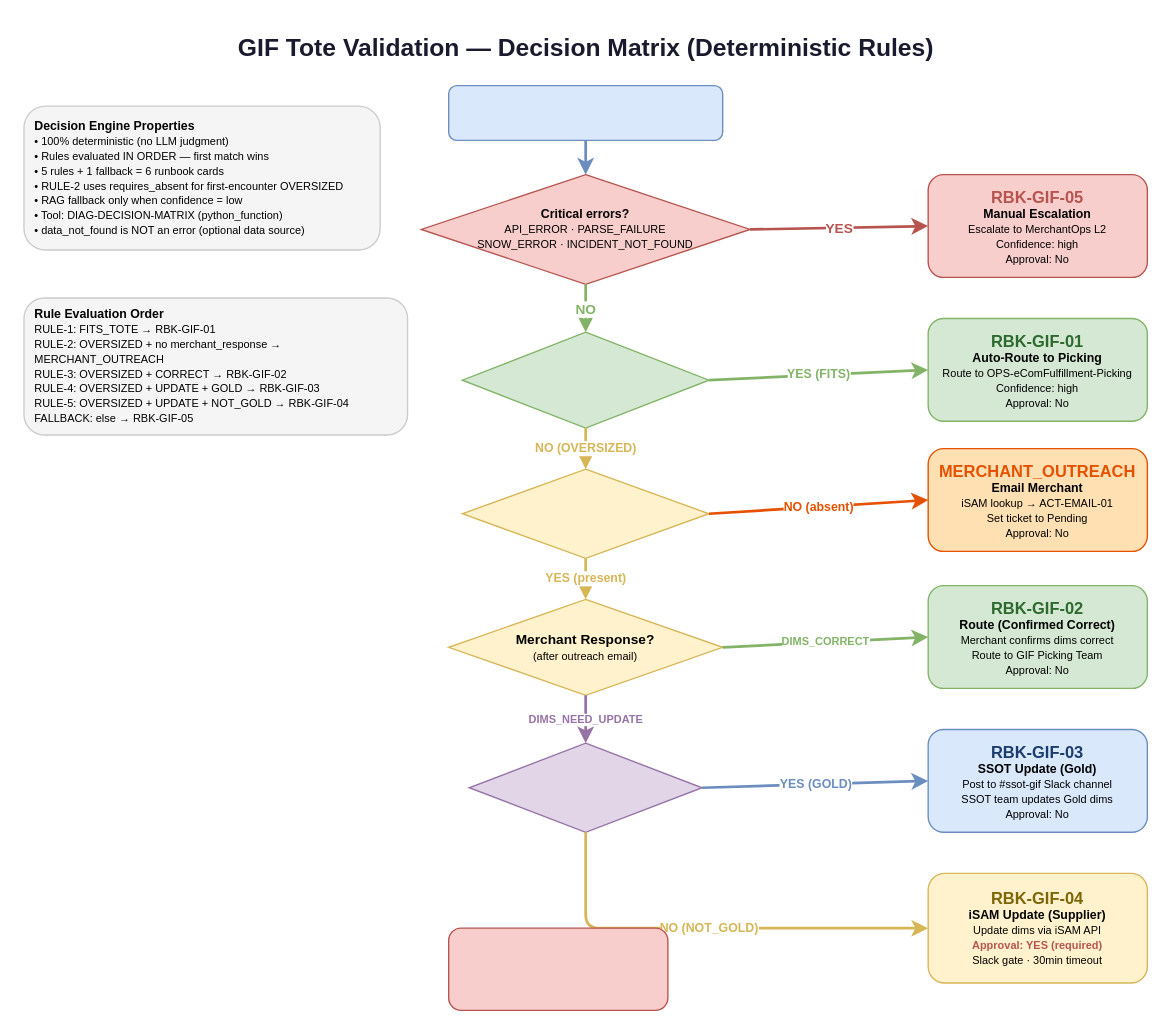
The diagram is 1171 pixels wide and 1034 high, and some of its shapes have lost their labels. Each missing label, with the centre of its shape:
"DIAG-API-02 = GOLD ?" goes at point (585, 787).
"DIAG-LOGIC-01 = FITS_TOTE ?" goes at point (585, 379).
"Diagnostic Observations from DiagnosticAgent" goes at point (585, 112).
"merchant_response present?" goes at point (585, 513).
"RBK-GIF-05 Fallback Escalation No rule matched Confidence: medium" goes at point (557, 968).
